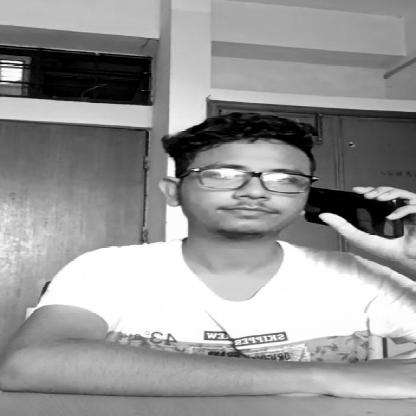Normal: (198, 134, 317, 226)
